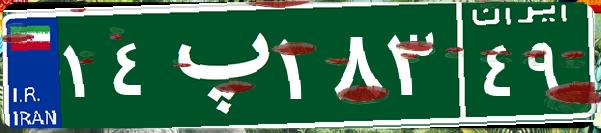1: (273, 28, 330, 110), (57, 26, 110, 107)
3: (385, 28, 445, 110)
4: (475, 38, 525, 113), (110, 28, 158, 105)
8: (330, 28, 385, 110)
9: (525, 38, 570, 115)
پ: (158, 15, 273, 115)
